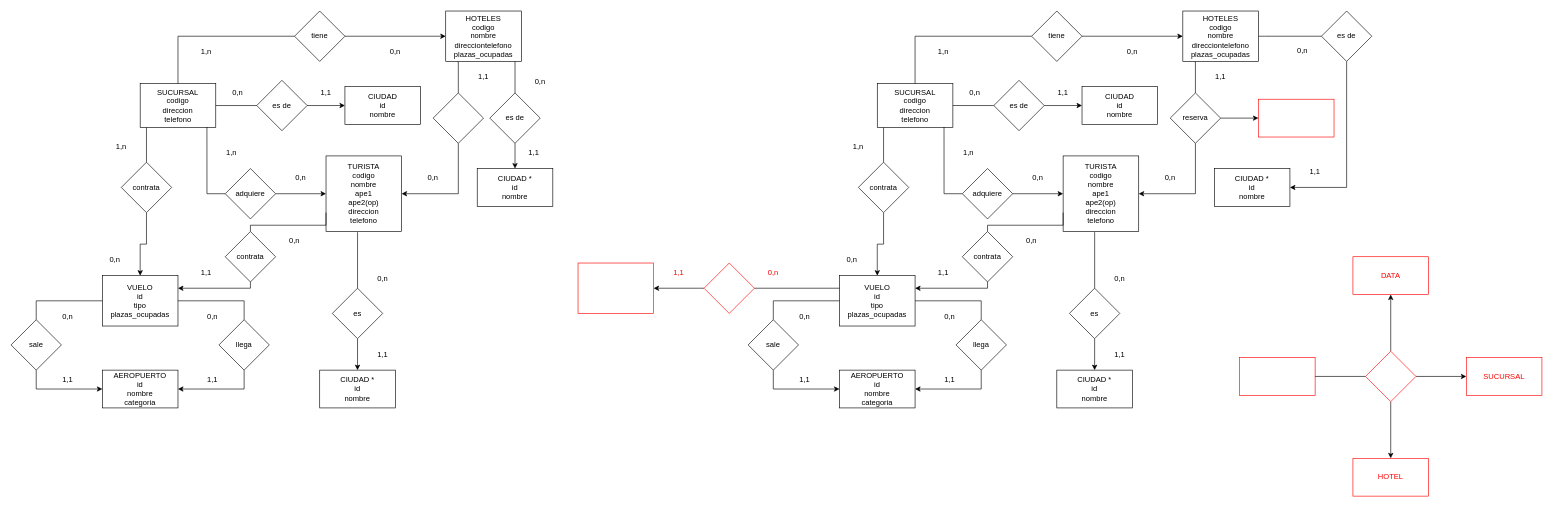
This 1553x507 diagram has some shape labels left out. Each missing label, with the centre of its shape:
"AVION" belongs at (615,287).
"FECHA" belongs at (1296,118).
"se aloja" belongs at (458,117).
"TURISTA" belongs at (1277,376).
